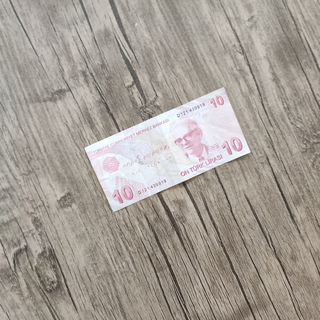10TLBack: (82, 84, 252, 213)
